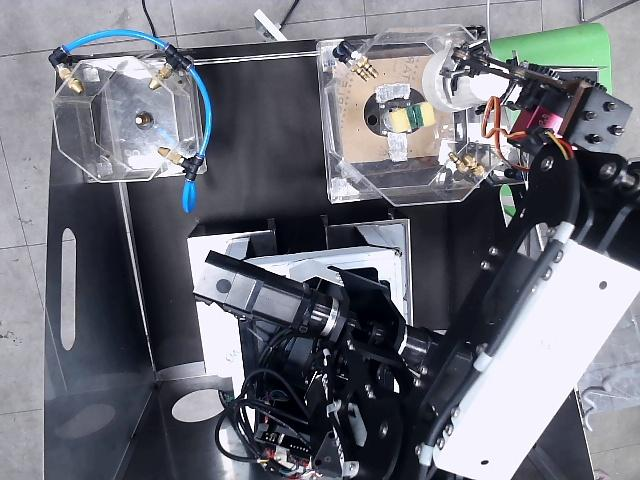cup: (423, 47, 508, 112)
